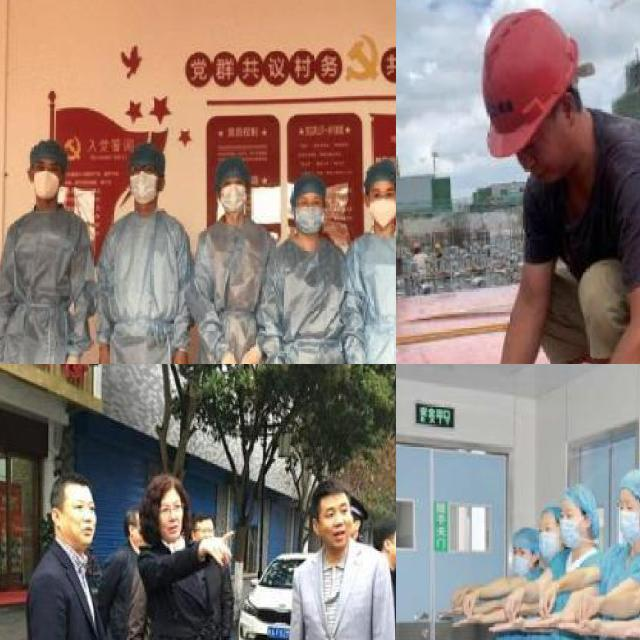No_Ear-Protection: (48, 506, 63, 532)
No_Glasses: (322, 503, 350, 520)
face_mask: (127, 154, 161, 206), (294, 186, 326, 237), (30, 158, 65, 204), (556, 503, 586, 552), (616, 486, 640, 546), (365, 181, 396, 227), (537, 515, 564, 563), (218, 172, 246, 218), (512, 543, 535, 575)
face_nomask: (512, 99, 569, 191), (66, 498, 99, 544), (320, 500, 352, 545), (153, 500, 187, 536)
glasses: (128, 160, 161, 175)
hand_glove: (239, 345, 262, 364), (220, 351, 242, 364)
hand_noglove: (558, 617, 601, 640), (486, 618, 524, 636), (526, 615, 560, 634), (576, 594, 595, 624), (536, 589, 555, 615), (503, 592, 521, 618), (454, 614, 484, 628), (460, 592, 480, 612), (436, 606, 466, 617), (169, 348, 188, 364), (94, 345, 109, 364), (450, 584, 464, 604), (627, 622, 640, 640)
head_helmet: (483, 2, 578, 162)
head_nohelmet: (121, 142, 168, 175), (25, 136, 69, 162), (210, 156, 254, 182), (53, 468, 93, 496), (144, 472, 184, 499), (312, 476, 350, 504), (360, 158, 396, 187), (288, 174, 328, 200), (372, 512, 396, 536)
person: (396, 0, 640, 364), (91, 142, 188, 364), (0, 137, 88, 364), (285, 477, 396, 640), (188, 154, 274, 364), (133, 470, 235, 640), (21, 468, 109, 640), (340, 162, 396, 364), (596, 478, 640, 640), (556, 486, 599, 640), (487, 524, 536, 640), (525, 499, 561, 640)
